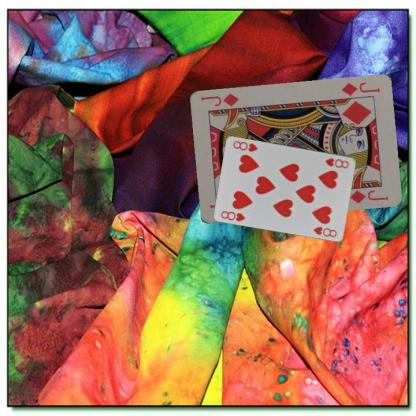8h: (218, 208, 247, 222), (323, 156, 350, 170)
Jd: (338, 80, 380, 98)
